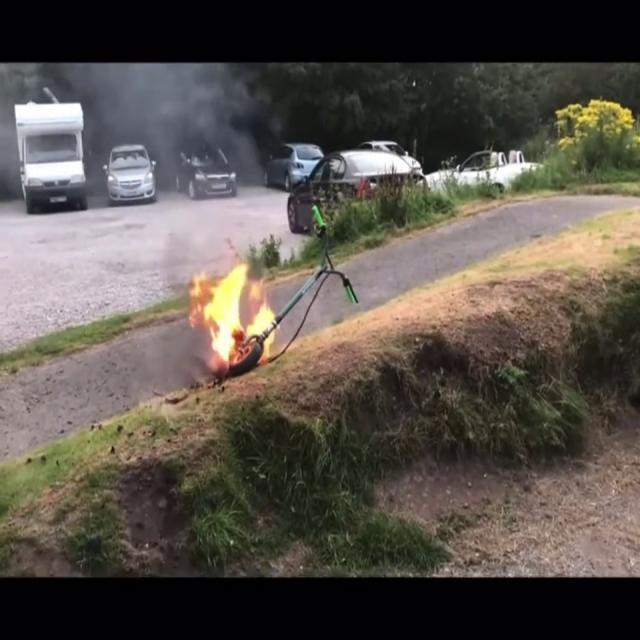Fire: (191, 258, 271, 368)
Smoke: (93, 62, 264, 245)
